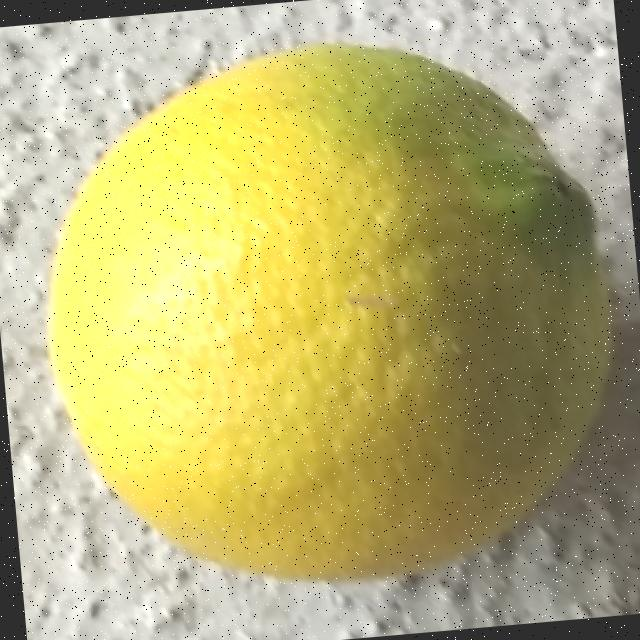Lemon: (23, 16, 637, 606)
